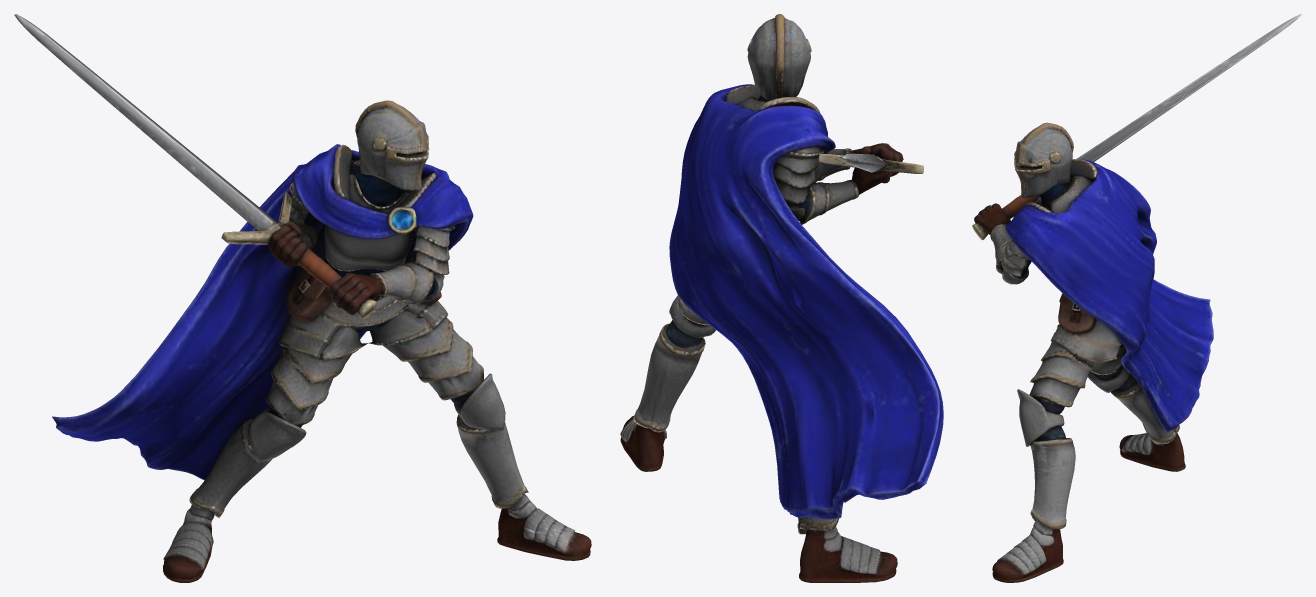
The model's file is MZ4250 - Knight Female_light.glb.
The picture shows the model from 3 angles, left to right: view 1: azimuth 30°, elevation 25°; view 2: azimuth 150°, elevation 25°; view 3: azimuth 270°, elevation 25°; orthographic projection. The views are drawn at different scales.
Visible parts, largest first — view 1: Longsword 2.001; view 2: Longsword 2.001; view 3: Longsword 2.001.
Part boxes in pixels (bbox=[...]): Longsword 2.001: bbox=[14, 14, 591, 582]; Longsword 2.001: bbox=[620, 14, 943, 582]; Longsword 2.001: bbox=[972, 14, 1301, 582].
Bounding box in the file's own units: 0.7488 × 0.8697 × 0.628.
Materials: 1 (1 with a texture image).
